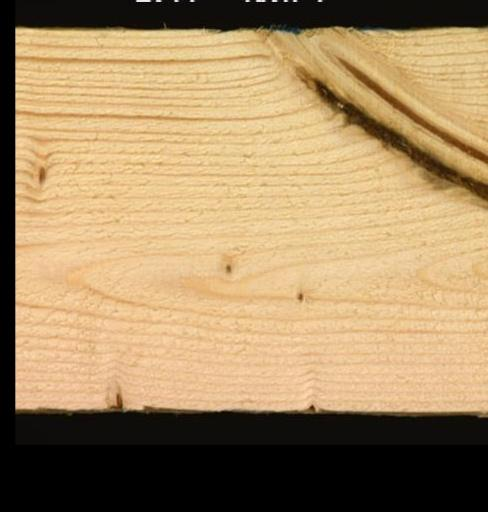edge_knot: (105, 378, 135, 412), (298, 398, 319, 411)
small_knot: (33, 157, 47, 189), (219, 257, 235, 279), (292, 288, 307, 305)
